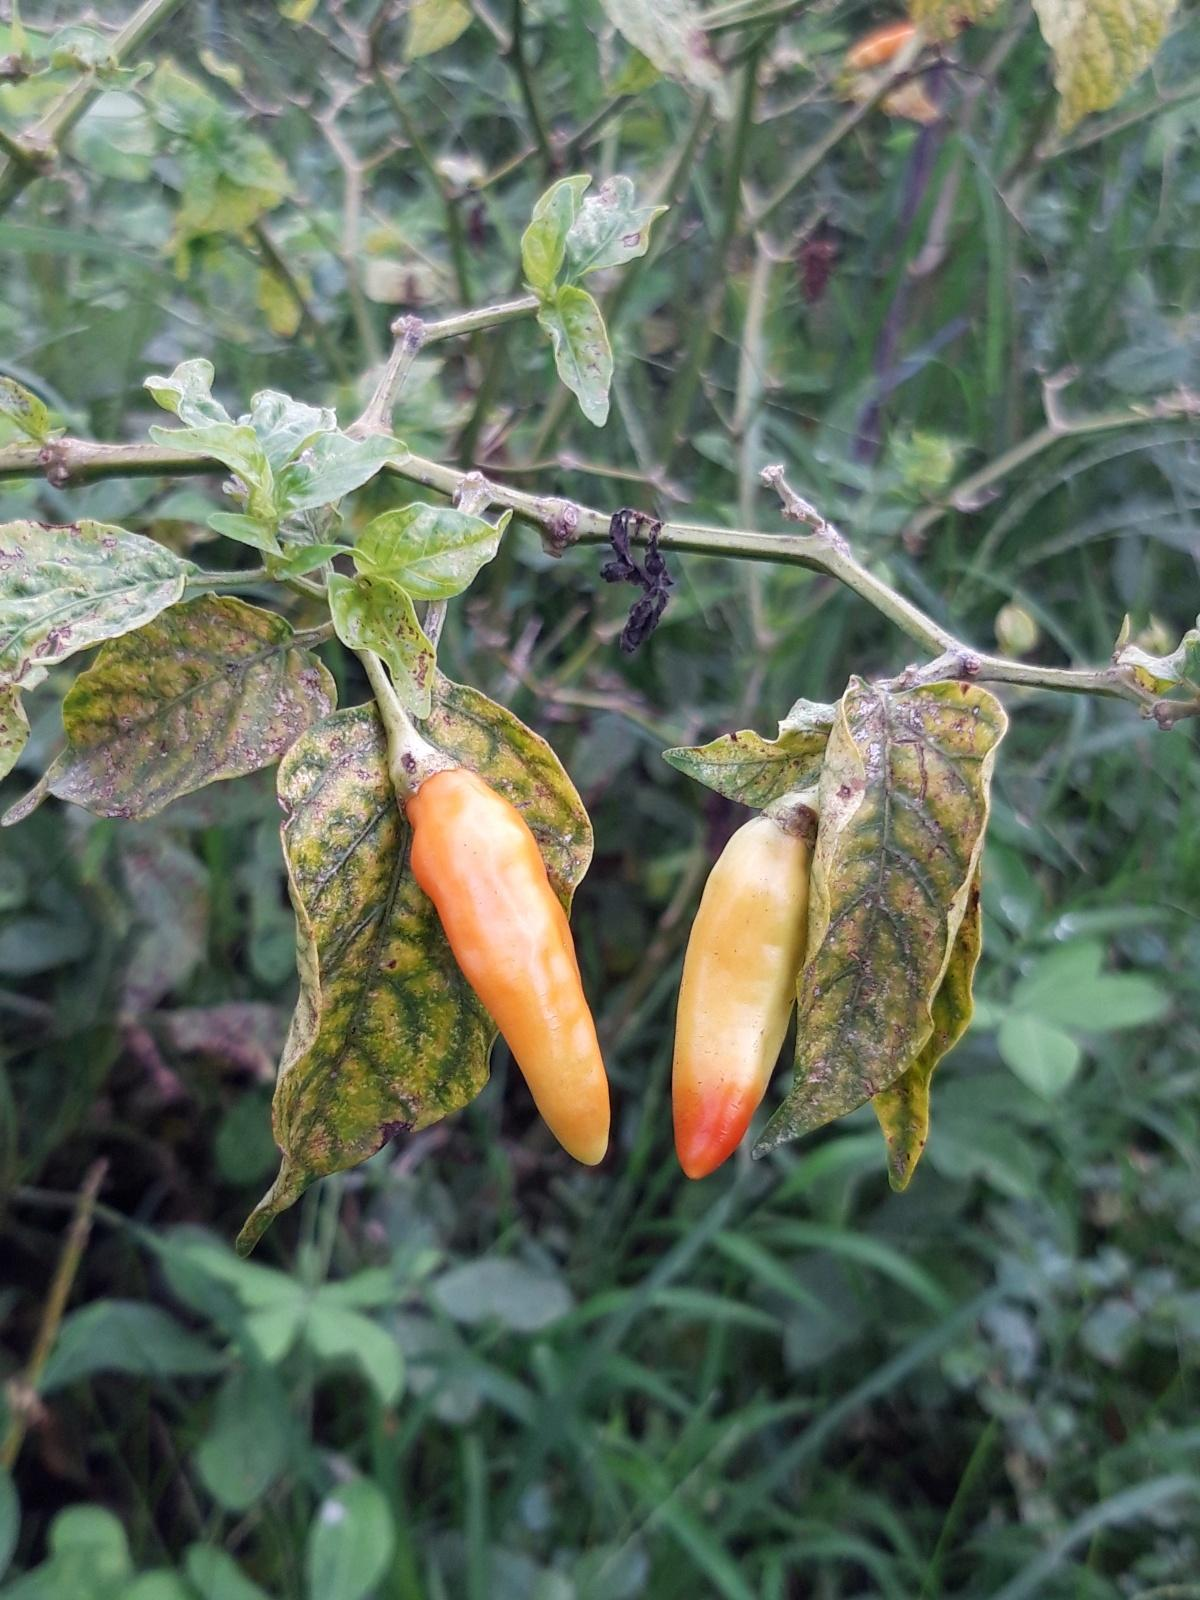cabai_normal: (405, 772, 614, 1172), (668, 808, 823, 1182)
